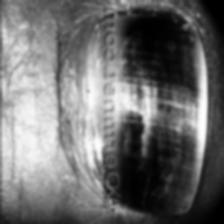Toxin: (120, 2, 202, 220)
